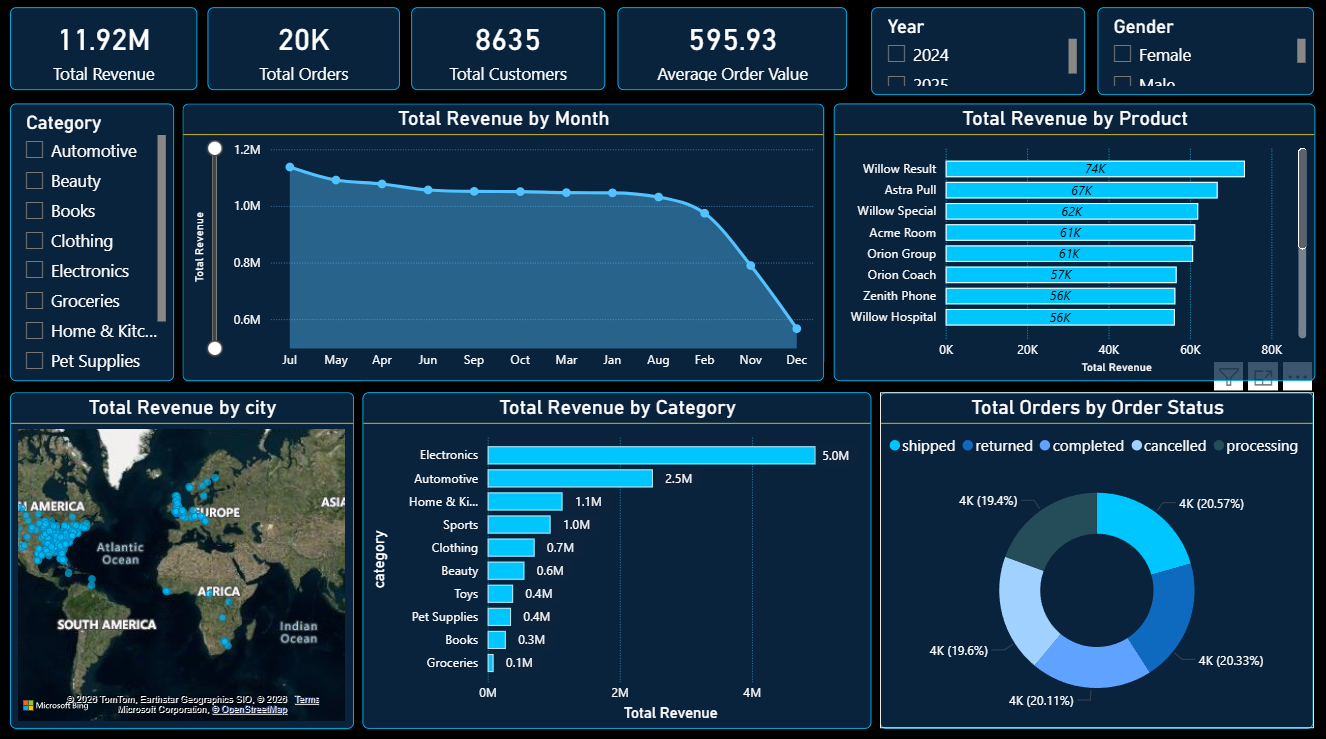

The dashboard page shown, as its layout file describes it:
{"tool":"powerbi","page":{"name":"Page 1","canvas":[1280,720],"ordinal":0},"visuals":[{"type":"donutChart","fields":{"Category":["ecommerce_final_dataset.order_status"],"Y":["Measure Table.Total Orders"]},"box":[849.3,382.4,418.6,324.5],"z":5000},{"type":"map","fields":{"Category":["ecommerce_final_dataset.city"],"Y":["Measure Table.Total Revenue"]},"box":[9.7,382.4,331.8,324.5],"z":6000},{"type":"barChart","title":"Total Revenue by Product","fields":{"Category":["ecommerce_final_dataset.product_name"],"Y":["Measure Table.Total Revenue"]},"box":[804.7,103.8,464.5,267.8],"z":7000},{"type":"barChart","title":"Total Revenue by Category","fields":{"Category":["ecommerce_final_dataset.category"],"Y":["Measure Table.Total Revenue"]},"box":[349.9,382.4,491,324.5],"z":8000},{"type":"slicer","fields":{"Values":["ecommerce_final_dataset.year"]},"box":[840.9,10.9,206.3,84.5],"z":9000},{"type":"stackedAreaChart","title":"Total Revenue by Month","fields":{"Y":["Measure Table.Total Revenue"],"Category":["ecommerce_final_dataset.Month_New"]},"box":[176.1,103.8,618.9,267.8],"z":10000},{"type":"card","fields":{"Values":["Measure Table.Total Revenue"]},"box":[9.7,10.9,181,79.6],"z":10001},{"type":"card","fields":{"Values":["Measure Table.Total Orders"]},"box":[200.3,10.9,185.8,79.6],"z":10002},{"type":"card","fields":{"Values":["Measure Table.Total Customers"]},"box":[396.9,10.9,187,79.6],"z":10003},{"type":"card","fields":{"Values":["Measure Table.Average Order Value"]},"box":[596,10.9,222,79.6],"z":10004},{"type":"slicer","fields":{"Values":["ecommerce_final_dataset.category"]},"box":[9.7,103.8,158,267.8],"z":10005},{"type":"slicer","fields":{"Values":["ecommerce_final_dataset.gender"]},"box":[1059.3,10.9,208.7,84.5],"z":10006}]}

Visuals, with their boxes in screenshot pixels (x1, y1, x2, y2), scaled from the page's 1280x720 canvas onto the 1326x739 screenshot:
donutChart - ecommerce_final_dataset.order_status x Measure Table.Total Orders: 880/392/1313/726
map - ecommerce_final_dataset.city x Measure Table.Total Revenue: 10/392/354/726
"Total Revenue by Product" barChart: 834/107/1315/381
"Total Revenue by Category" barChart: 362/392/871/726
slicer - ecommerce_final_dataset.year: 871/11/1085/98
"Total Revenue by Month" stackedAreaChart: 182/107/824/381
card - Measure Table.Total Revenue: 10/11/198/93
card - Measure Table.Total Orders: 207/11/400/93
card - Measure Table.Total Customers: 411/11/605/93
card - Measure Table.Average Order Value: 617/11/847/93
slicer - ecommerce_final_dataset.category: 10/107/174/381
slicer - ecommerce_final_dataset.gender: 1097/11/1314/98
